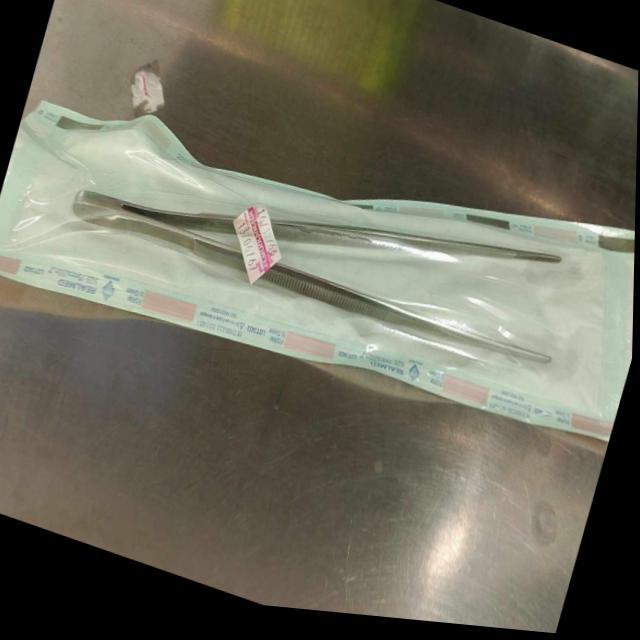General: (2, 97, 635, 442)
Sharps: (73, 188, 556, 365), (74, 188, 565, 264)
